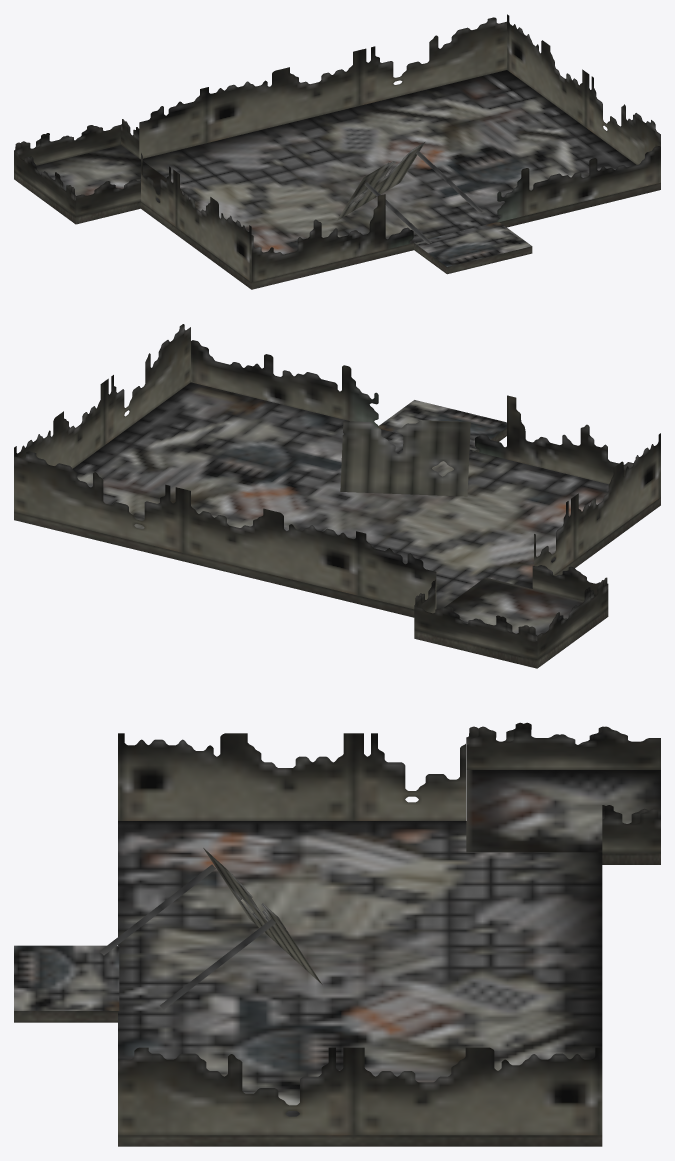
File: genericmilitary_dam.glb
3 views of the same model, one above another, from view 1: azimuth 30°, elevation 25°; view 2: azimuth 150°, elevation 25°; view 3: azimuth 270°, elevation 25° (orthographic). The views are drawn at different scales.
Visible parts, largest first — view 1: Generic Military Dam; view 2: Generic Military Dam; view 3: Generic Military Dam.
Boxes of the visible parts, box(x1,y1,x2,y2) form: Generic Military Dam: box(14, 14, 660, 289); Generic Military Dam: box(14, 324, 660, 668); Generic Military Dam: box(14, 722, 660, 1146).
Bounding box in the file's own units: 22.14 × 2.81 × 16.63.
1 material, 1 textured.
